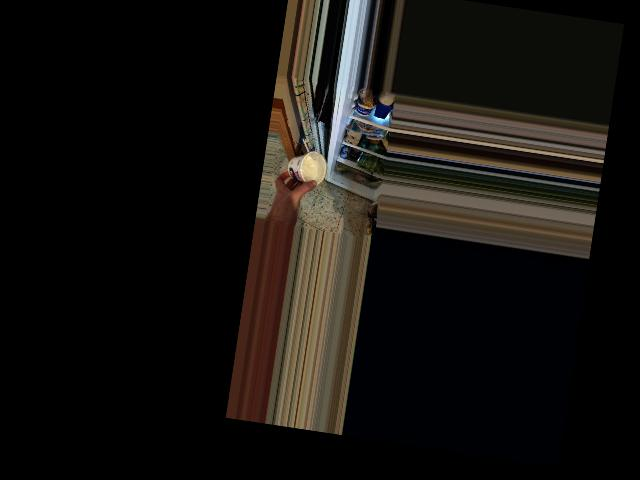cotage: (283, 149, 327, 189)
